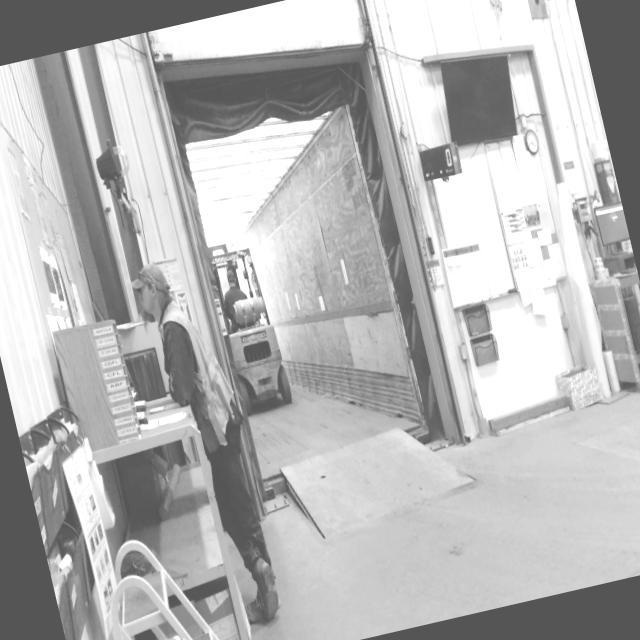driver: (213, 262, 250, 320)
forklift: (200, 230, 302, 424)
person: (129, 246, 289, 640)
